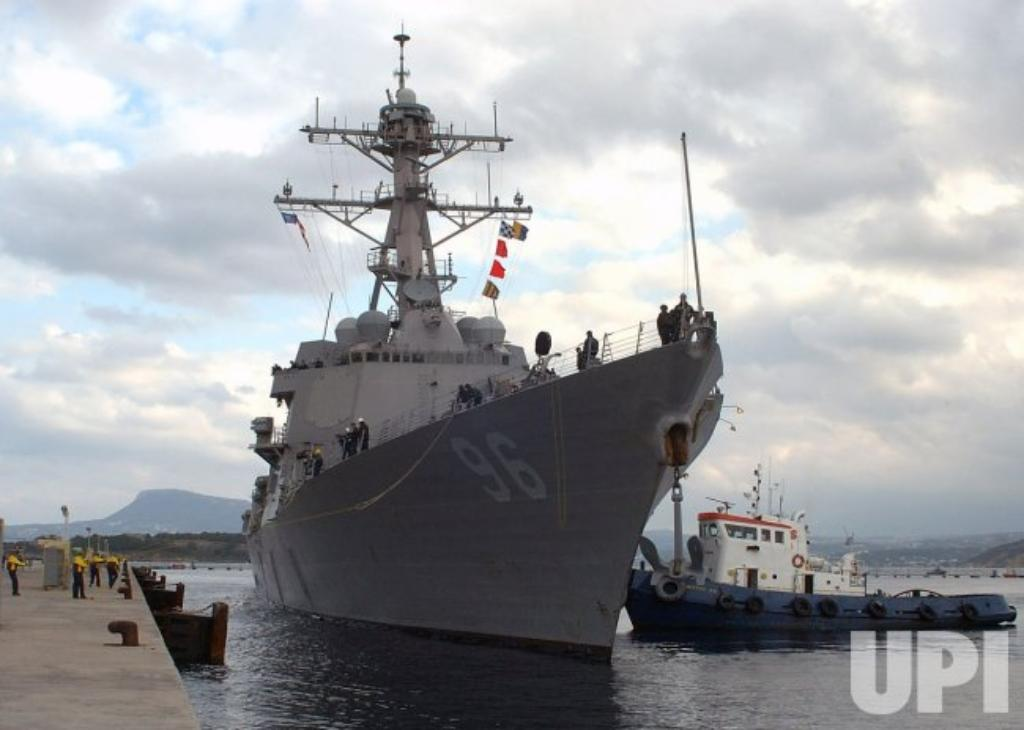Warship: (228, 16, 732, 676)
